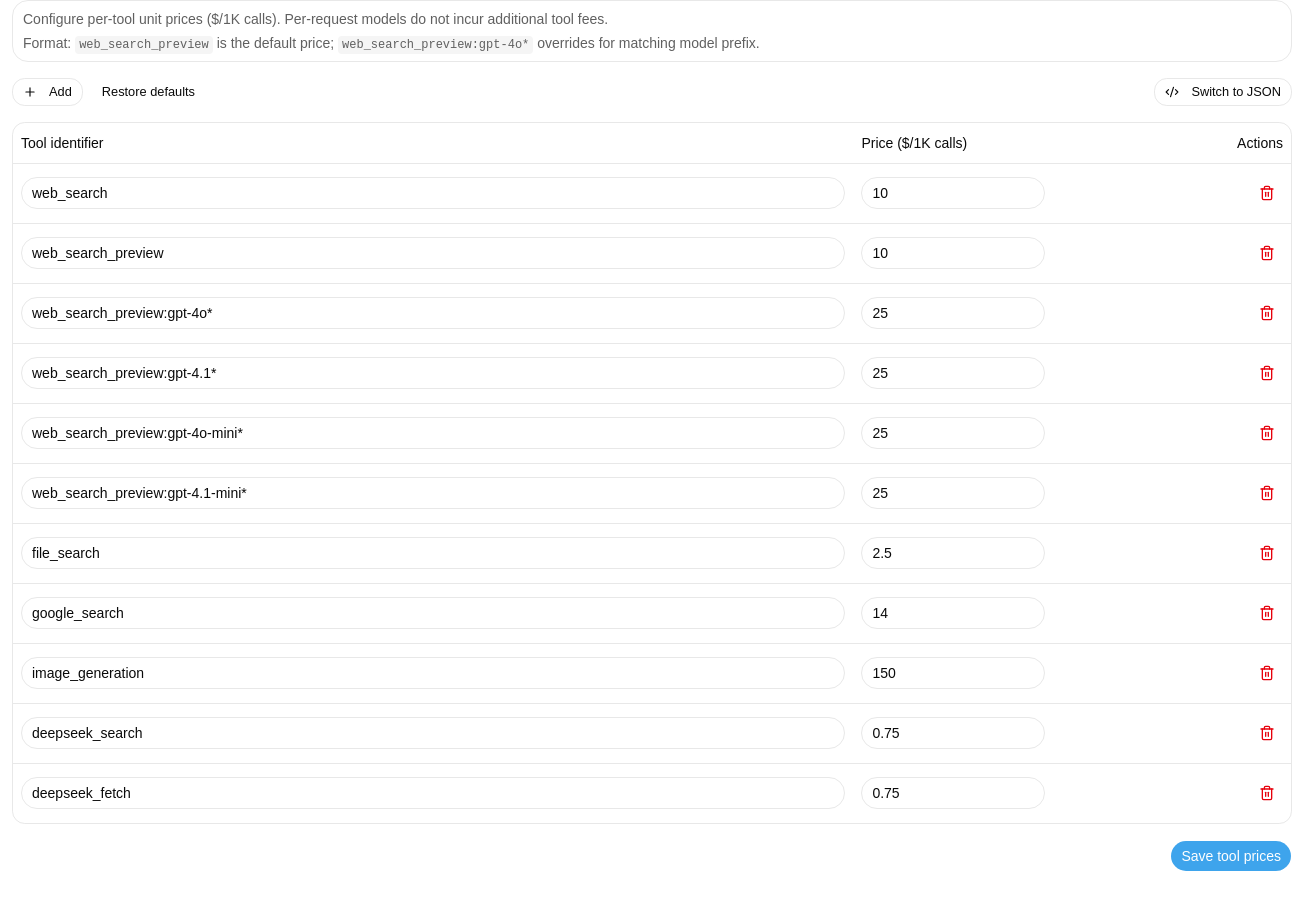
tool price validation › blocks an empty price without converting it to an explicit zero
Clear the number field named "Price ($/1K calls): web_search" at point(953, 193), box [861,177,1045,209]
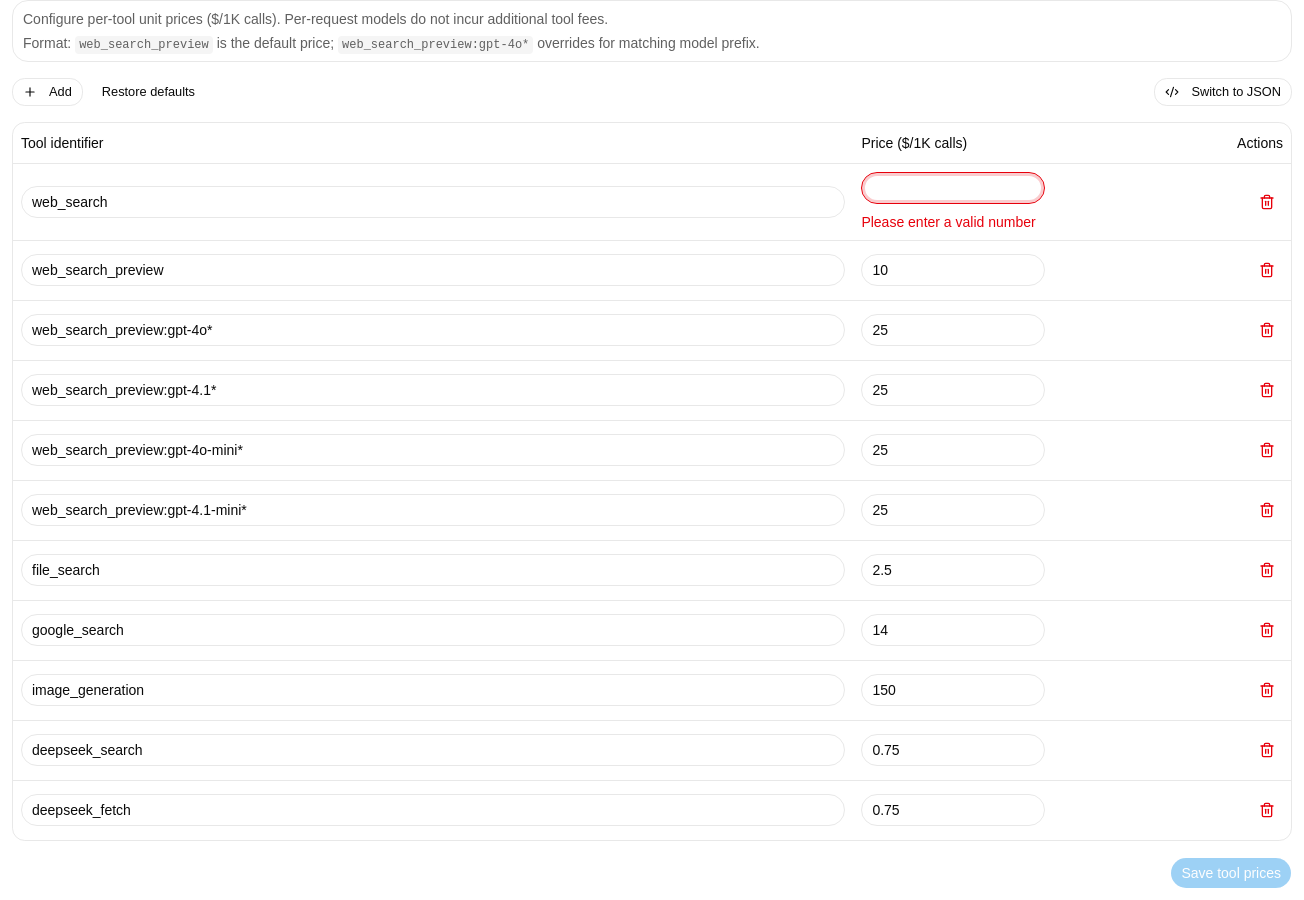
Expected: the text "Please enter a valid number" is shown, [861,212,1045,232]
Expected: the button "Save tool prices" is disabled, [1170,857,1292,889]
Type "0" into the number field named "Price ($/1K calls): web_search".
click(953, 188); type("0")  # box [861,172,1045,204]
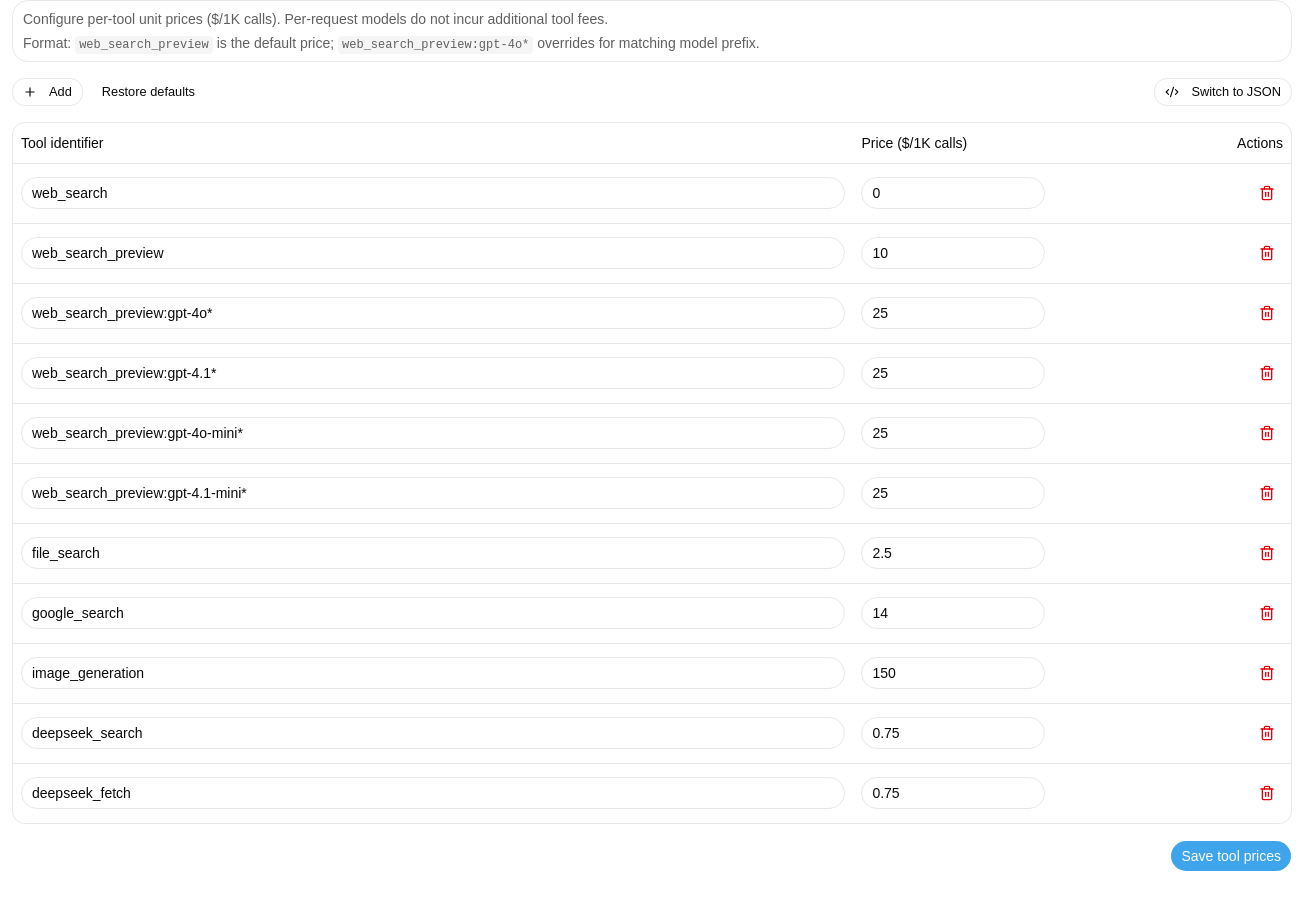
Expected: the button "Save tool prices" is enabled, [1170,840,1292,872]
